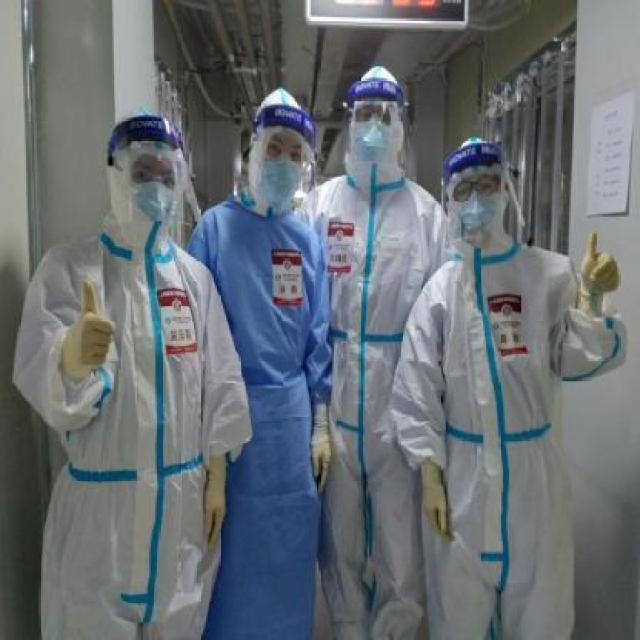face_mask: (126, 163, 177, 240), (259, 134, 306, 203), (451, 172, 498, 232), (346, 102, 394, 160)
glasses: (126, 147, 192, 193), (256, 125, 316, 166), (346, 92, 406, 132), (447, 171, 505, 204)
hand_glove: (68, 280, 117, 365), (580, 229, 620, 306), (420, 476, 451, 544), (202, 474, 226, 544), (310, 429, 332, 494)
person: (404, 124, 630, 640), (28, 106, 246, 640), (333, 61, 458, 640), (212, 83, 342, 631)
